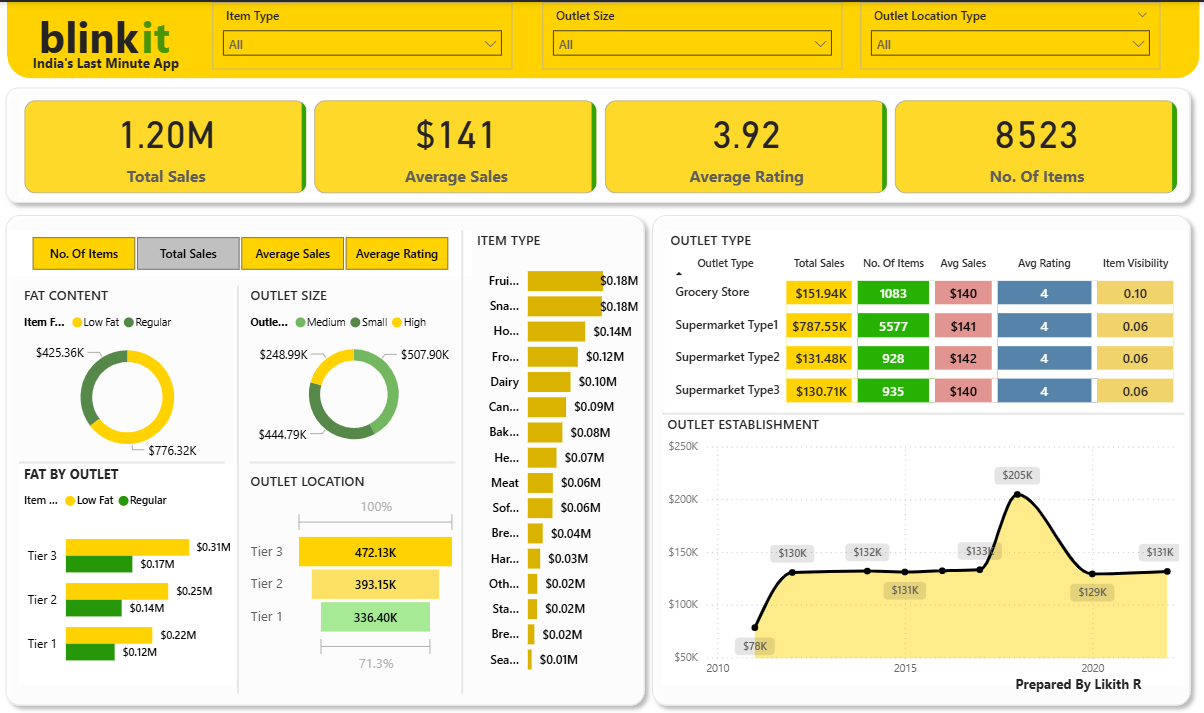

The dashboard page shown, as its layout file describes it:
{"tool":"powerbi","page":{"name":"Blinkit","canvas":[1280,720],"ordinal":0},"visuals":[{"type":"shape","box":[693.5,205.9,561.8,513.3],"z":0},{"type":"shape","box":[51,0,1204,77.1],"z":1000},{"type":"textbox","box":[40.9,0,218,77.2],"z":2000},{"type":"textbox","box":[63.6,46.9,175.6,30.3],"z":3000},{"type":"slicer","fields":{"Values":["BlinkIT Grocery Data.Outlet Location Type"]},"box":[913.1,0,302.8,68.1],"z":4000},{"type":"slicer","fields":{"Values":["BlinkIT Grocery Data.Outlet Size"]},"box":[592.1,0,302.8,68.1],"z":5000},{"type":"slicer","fields":{"Values":["BlinkIT Grocery Data.Item Type"]},"box":[258.9,0,302.8,68.1],"z":6000},{"type":"shape","box":[40.9,205.9,663.2,513.3],"z":7000},{"type":"slicer","fields":{"Values":["Metrices.Metrices"]},"box":[51.5,230.2,469.4,46.9],"z":8000},{"type":"donutChart","title":"FAT CONTENT","fields":{"Y":["BlinkIT Grocery Data.Total Sales"],"Category":["BlinkIT Grocery Data.Item Fat Content"]},"box":[63.6,286.2,218,180.2],"z":9000},{"type":"barChart","title":"ITEM TYPE","fields":{"Y":["BlinkIT Grocery Data.Total Sales"],"Category":["BlinkIT Grocery Data.Item Type"]},"box":[520.9,230.2,172.6,458.8],"z":10000},{"type":"clusteredBarChart","title":"FAT BY  OUTLET","fields":{"Y":["BlinkIT Grocery Data.Total Sales"],"Category":["BlinkIT Grocery Data.Outlet Location Type"],"Series":["BlinkIT Grocery Data.Item Fat Content"]},"box":[63.6,466.4,218,222.6],"z":11000},{"type":"donutChart","title":"OUTLET SIZE","fields":{"Y":["BlinkIT Grocery Data.Total Sales"],"Category":["BlinkIT Grocery Data.Outlet Size"]},"box":[292.2,286.2,218,174.1],"z":12000},{"type":"areaChart","title":"OUTLET ESTABLISHMENT","fields":{"Category":["BlinkIT Grocery Data.Outlet Establishment Year"],"Y":["BlinkIT Grocery Data.Total Sales"]},"box":[713.6,416,526.2,272.8],"z":13000},{"type":"funnel","title":"OUTLET LOCATION","fields":{"Y":["Sum(BlinkIT Grocery Data.Sales)"],"Category":["BlinkIT Grocery Data.Outlet Location Type"]},"box":[292.2,473.9,218,209],"z":14000},{"type":"pivotTable","title":"OUTLET TYPE","fields":{"Rows":["BlinkIT Grocery Data.Outlet Type"],"Values":["BlinkIT Grocery Data.Total Sales","BlinkIT Grocery Data.No. Of Items","BlinkIT Grocery Data.Average Sales","BlinkIT Grocery Data.Average Rating","Avg(BlinkIT Grocery Data.Item Visibility)"]},"box":[716.2,230.2,526.9,186.2],"z":15000},{"type":"shape","box":[40.9,77.2,1214.4,134.8],"z":16000},{"type":"cardVisual","fields":{"Data":["Sum(BlinkIT Grocery Data.Sales)","BlinkIT Grocery Data.Average Sales","BlinkIT Grocery Data.Average Rating","BlinkIT Grocery Data.No. Of Items"]},"box":[63.6,93.9,1176.5,104.5],"z":17000},{"type":"shape","box":[277.1,286.2,15.1,411.9],"z":18000},{"type":"shape","box":[63.6,446.7,207.4,36.3],"z":19000},{"type":"shape","box":[296.8,446.7,207.4,36.3],"z":20000},{"type":"shape","box":[501.2,230.2,19.7,467.9],"z":21000},{"type":"shape","box":[713.2,398.2,526.9,34.8],"z":22000},{"type":"textbox","box":[1064.9,673.6,151.5,34.4],"z":23000}]}

Visuals, with their boxes on the page's 1280x720 design canvas (x1, y1, x2, y2). These are canvas units, not pixel positions in the 1204x713 screenshot, which may show the page scaled, cropped or inside an application window:
shape: region(694, 206, 1255, 719)
shape: region(51, 0, 1255, 77)
textbox: region(41, 0, 259, 77)
textbox: region(64, 47, 239, 77)
slicer - BlinkIT Grocery Data.Outlet Location Type: region(913, 0, 1216, 68)
slicer - BlinkIT Grocery Data.Outlet Size: region(592, 0, 895, 68)
slicer - BlinkIT Grocery Data.Item Type: region(259, 0, 562, 68)
shape: region(41, 206, 704, 719)
slicer - Metrices.Metrices: region(52, 230, 521, 277)
"FAT CONTENT" donutChart: region(64, 286, 282, 466)
"ITEM TYPE" barChart: region(521, 230, 694, 689)
"FAT BY  OUTLET" clusteredBarChart: region(64, 466, 282, 689)
"OUTLET SIZE" donutChart: region(292, 286, 510, 460)
"OUTLET ESTABLISHMENT" areaChart: region(714, 416, 1240, 689)
"OUTLET LOCATION" funnel: region(292, 474, 510, 683)
"OUTLET TYPE" pivotTable: region(716, 230, 1243, 416)
shape: region(41, 77, 1255, 212)
cardVisual - Sum(BlinkIT Grocery Data.Sales) x BlinkIT Grocery Data.Average Sales: region(64, 94, 1240, 198)
shape: region(277, 286, 292, 698)
shape: region(64, 447, 271, 483)
shape: region(297, 447, 504, 483)
shape: region(501, 230, 521, 698)
shape: region(713, 398, 1240, 433)
textbox: region(1065, 674, 1216, 708)
